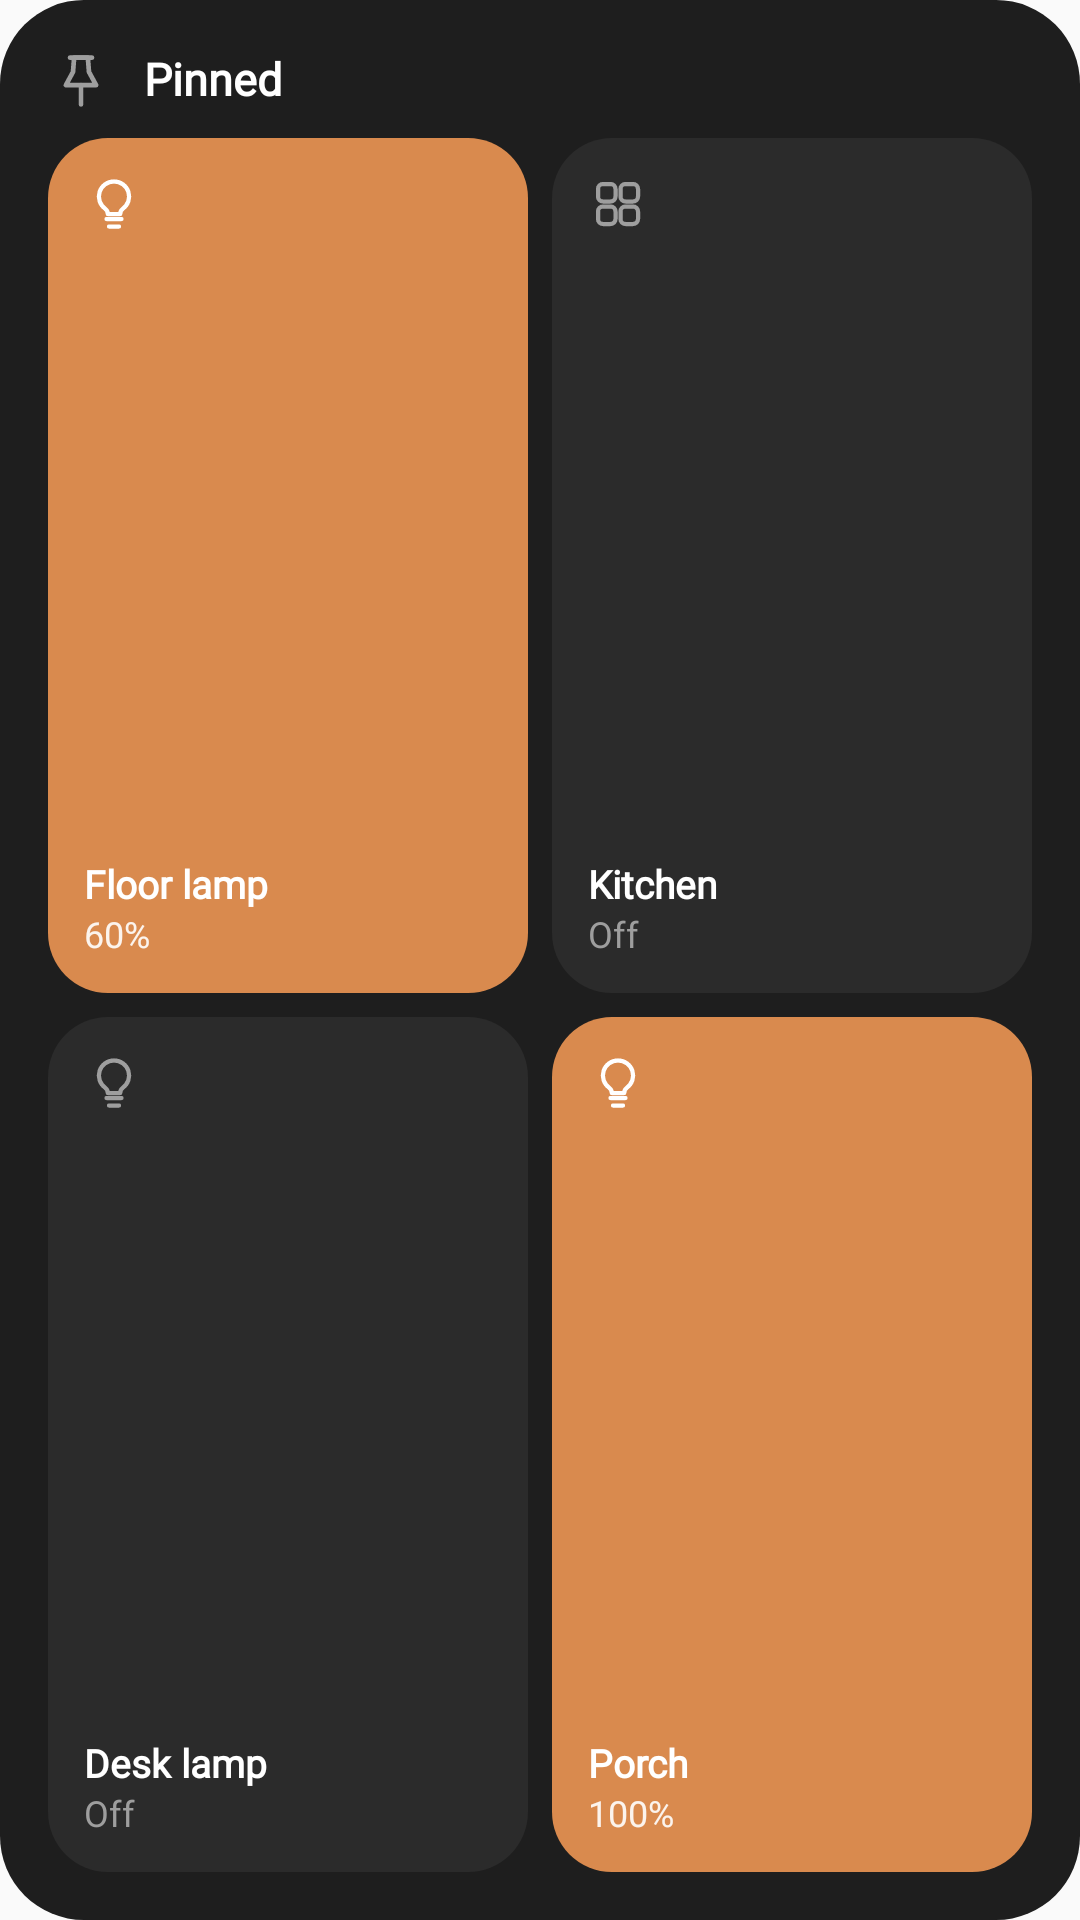

Icon bounding boxes for this 1080x1920 phone screenshot, format (x1, y1, x2, y2):
wi pin: (63, 55, 99, 107)
